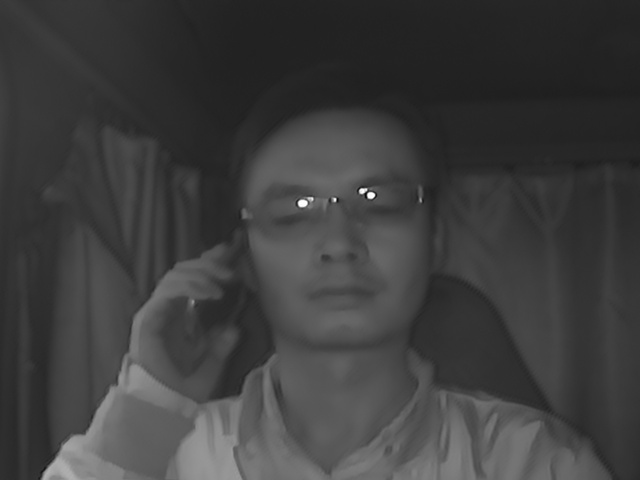hand: (133, 242, 242, 394)
